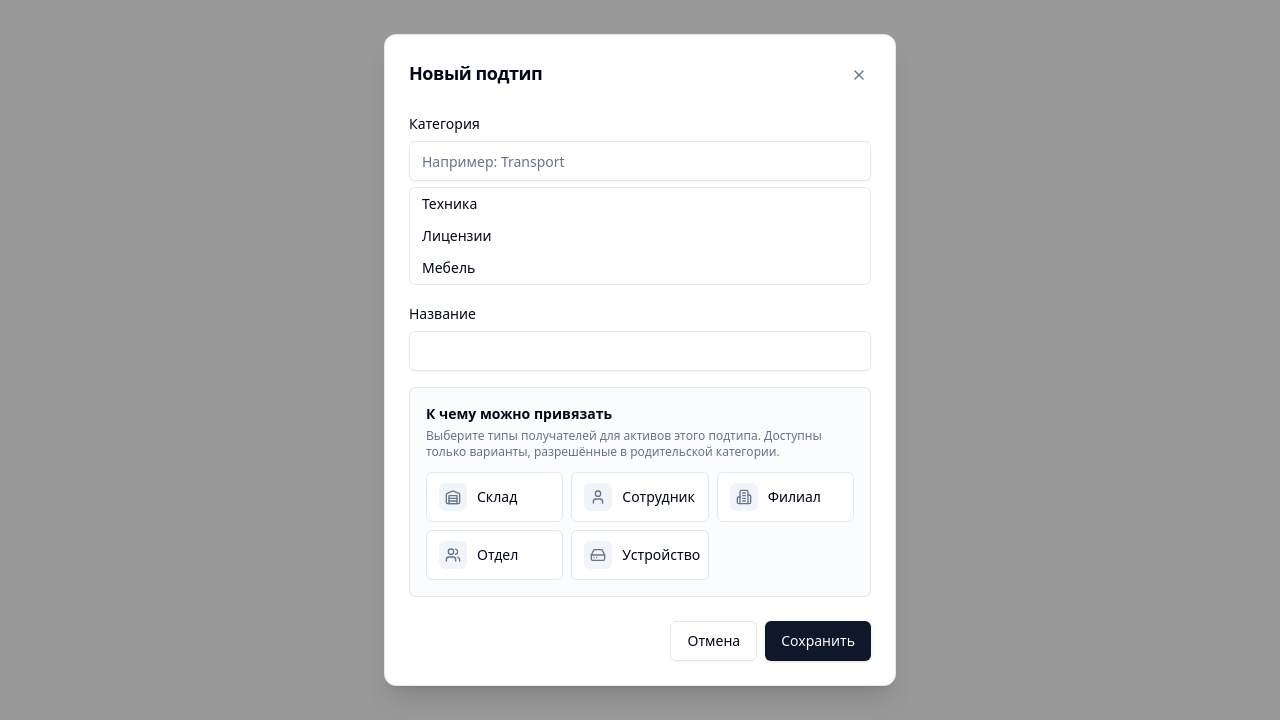
Scenario: SubtypeFormDialog › rejects new-category names that produce an empty slug with a localized hint (Wave A.8)
The width and height of the screenshot is (1280, 720).
Type "Транспорт" into the field labelled "Категория" at coordinates (640, 161), box [409, 141, 871, 181]
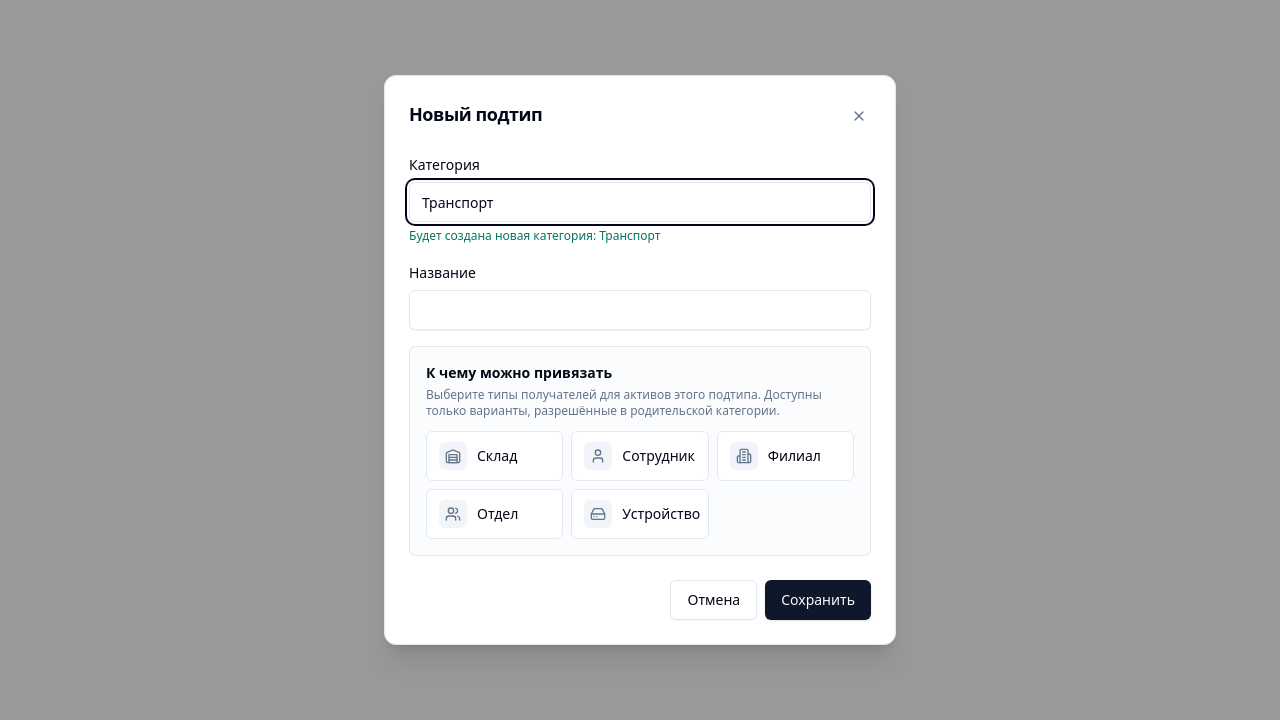
Type "Ford" into the 2nd field at coordinates (640, 310), box [409, 290, 871, 330]
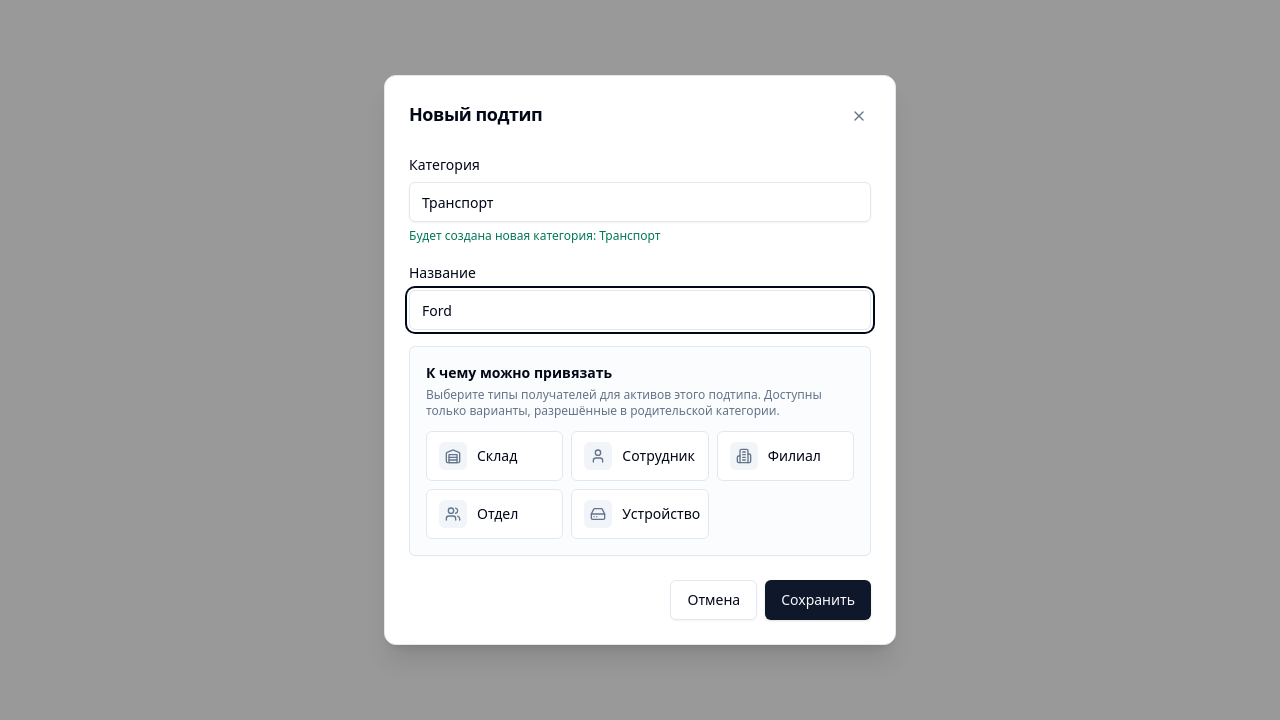
Click the checkbox labelled "Филиал" at coordinates (785, 456), box [717, 431, 854, 481]
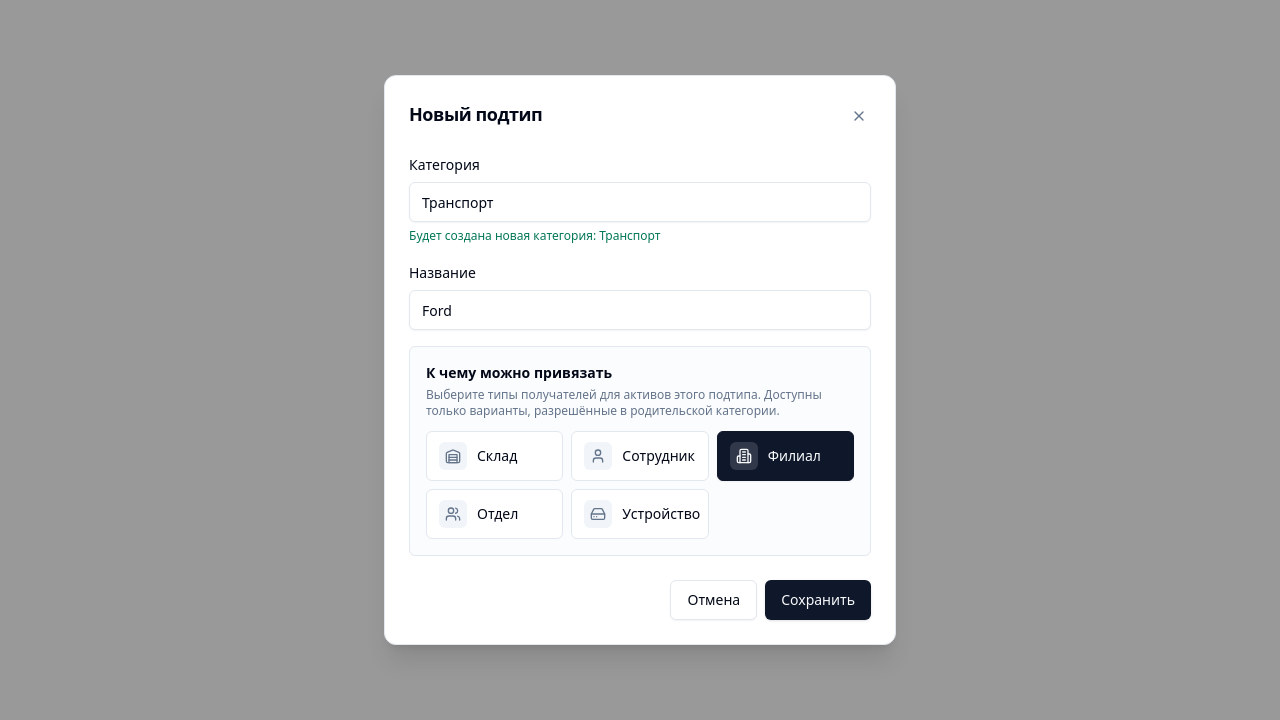
Click the button "Сохранить" at coordinates (818, 600), box [765, 580, 871, 620]
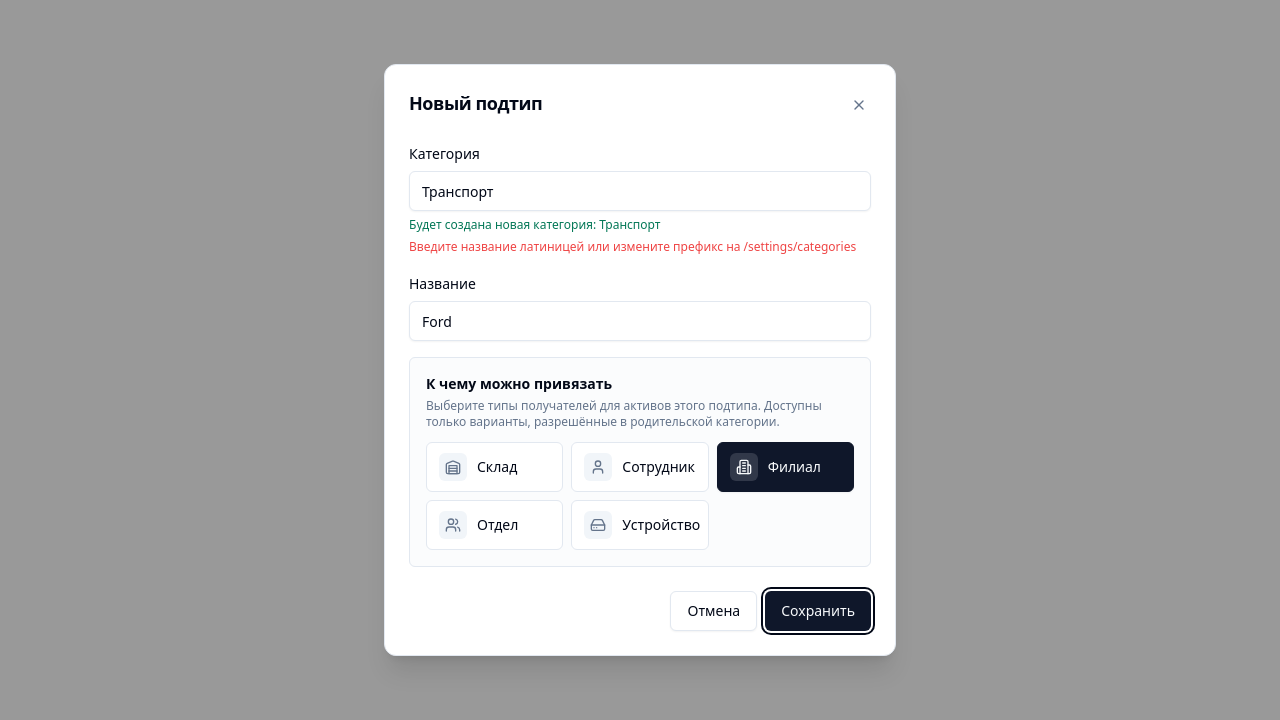
Expected: the text "Введите название латиницей или измените префикс на /settings/categories" is shown, [409, 239, 871, 255]
